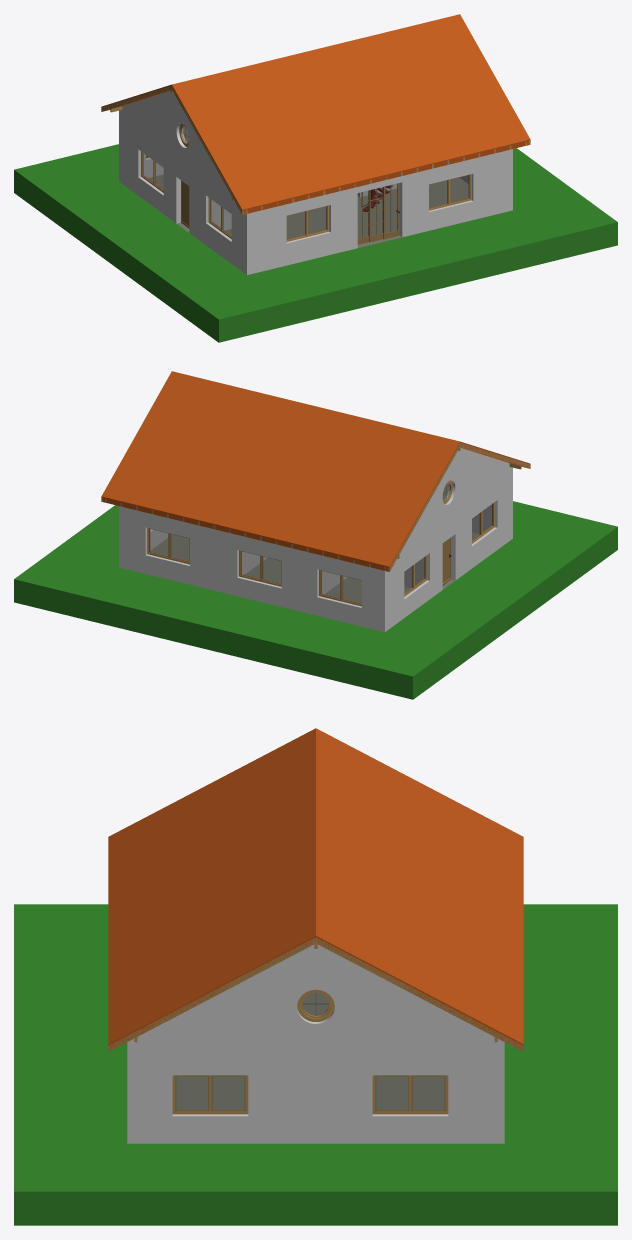
Rendered from AC20-FZK-Haus-names.dae.
The picture shows the model from 3 angles, top to bottom: view 1: azimuth 30°, elevation 25°; view 2: azimuth 150°, elevation 25°; view 3: azimuth 270°, elevation 25°; orthographic projection. The views are drawn at different scales.
Parts seen in each view (by area): view 1: Gelaende, Dach-2, Wand-Ext-ERDG-4, Wand-Ext-ERDG-1, Wand-Ext-OG-1, Bodenplatte, Terrassentuer, EG-Fenster-4, EG-Fenster-5, EG-Fenster-7, EG-Fenster-6; view 2: Gelaende, Dach-1, Wand-Ext-ERDG-2, Wand-Ext-ERDG-1, Wand-Ext-OG-1, Bodenplatte, EG-Fenster-1, EG-Fenster-3, EG-Fenster-2, EG-Fenster-6, EG-Fenster-7; view 3: Gelaende, Dach-1, Dach-2, Wand-Ext-ERDG-3, Wand-Ext-OG-3, Bodenplatte, EG-Fenster-8, EG-Fenster-9, Sparren-16, Sparren-41, OG-Fenster-1.
Part boxes in pixels (box(x1,y1,x2,y2)): Gelaende: box(14, 144, 617, 342); Dach-2: box(172, 14, 530, 214); Wand-Ext-ERDG-4: box(247, 149, 512, 274); Wand-Ext-ERDG-1: box(119, 119, 246, 274); Wand-Ext-OG-1: box(119, 91, 236, 204); Bodenplatte: box(149, 174, 468, 247); Terrassentuer: box(357, 183, 399, 244); EG-Fenster-4: box(286, 205, 329, 241); EG-Fenster-5: box(429, 174, 471, 210); EG-Fenster-7: box(208, 197, 231, 238); EG-Fenster-6: box(141, 151, 163, 192); Gelaende: box(14, 501, 617, 699); Dach-1: box(101, 371, 459, 571); Wand-Ext-ERDG-2: box(119, 506, 384, 631); Wand-Ext-ERDG-1: box(385, 476, 512, 631); Wand-Ext-OG-1: box(395, 448, 512, 561); Bodenplatte: box(150, 532, 479, 603); EG-Fenster-1: box(319, 570, 361, 606); EG-Fenster-3: box(147, 528, 189, 564); EG-Fenster-2: box(239, 550, 281, 586); EG-Fenster-6: box(404, 555, 427, 596); EG-Fenster-7: box(472, 502, 494, 543); Gelaende: box(14, 904, 617, 1225); Dach-1: box(316, 728, 523, 1051); Dach-2: box(108, 728, 315, 1051); Wand-Ext-ERDG-3: box(127, 1051, 504, 1143); Wand-Ext-OG-3: box(127, 944, 504, 1051); Bodenplatte: box(176, 1076, 444, 1109); EG-Fenster-8: box(372, 1075, 448, 1114); EG-Fenster-9: box(172, 1075, 248, 1114); Sparren-16: box(316, 937, 523, 1051); Sparren-41: box(108, 937, 315, 1051); OG-Fenster-1: box(297, 989, 334, 1021).
Bounding box in the file's own units: 18 × 16 × 7.32.
